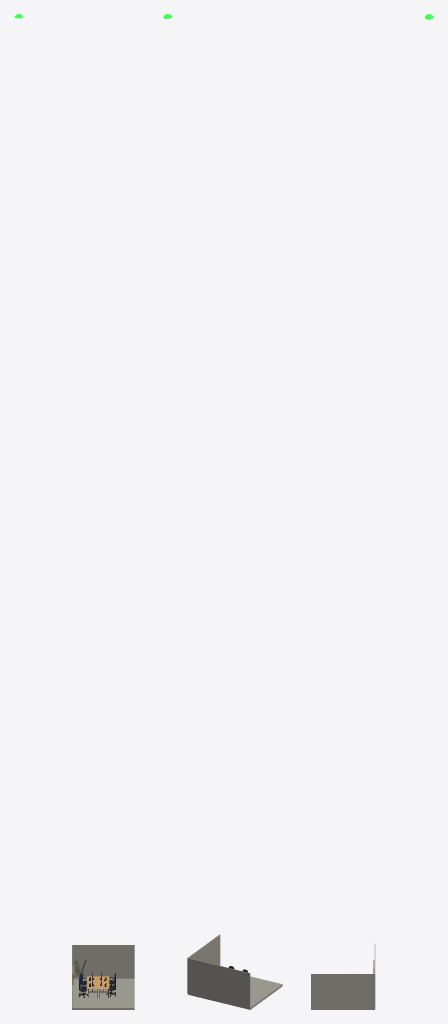
File: tecnologiaSistemas.glb
3 renders of one model, left to right at view 1: azimuth 90°, elevation 25°; view 2: azimuth 150°, elevation 25°; view 3: azimuth 270°, elevation 25°, orthographic. The views are drawn at different scales.
Parts seen in each view (by area): view 1: Cube.002, Cube; view 2: Cube.001, Cube, Cube.002; view 3: Cube.002.
Boxes of the visible parts, x1,y1,x2,y2 form: Cube.002: (72,945,134,978); Cube: (72,978,134,1009); Cube.001: (187,958,250,1008); Cube: (188,976,282,1009); Cube.002: (187,934,220,993); Cube.002: (311,974,374,1009).
Bounding box in the file's own units: 14.06 × 212 × 23.82.
23 materials, 21 textured.
